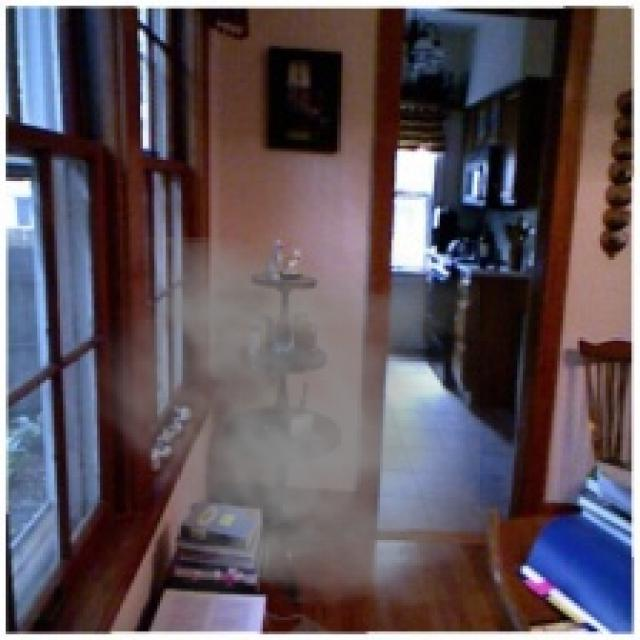smoke: (83, 237, 480, 609)
